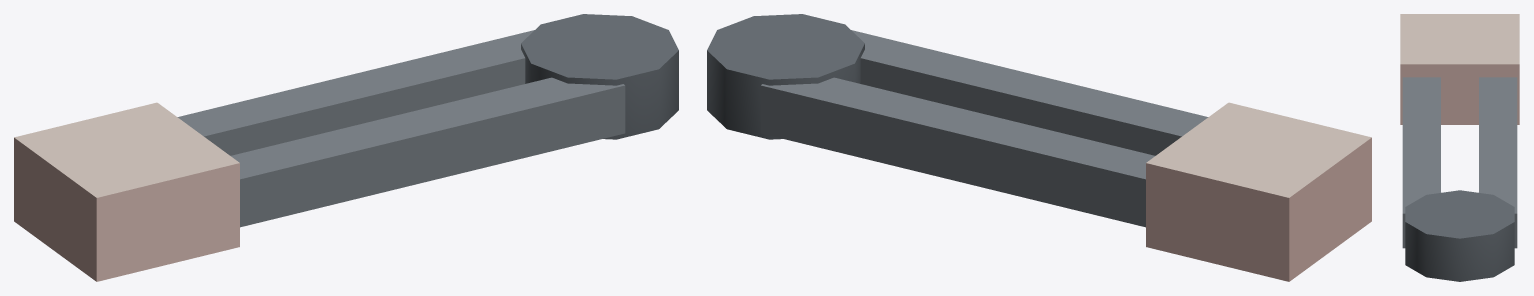
The model's file is t_shotgun_b.glb.
3 views of the same model, side by side, from view 1: azimuth 30°, elevation 25°; view 2: azimuth 150°, elevation 25°; view 3: azimuth 270°, elevation 25° (orthographic). The views are drawn at different scales.
Parts seen in each view (by area): view 1: t_shotgun_b; view 2: t_shotgun_b; view 3: t_shotgun_b.
Boxes of the visible parts, x1,y1,x2,y2 form: t_shotgun_b: (14, 14, 678, 281); t_shotgun_b: (707, 14, 1371, 281); t_shotgun_b: (1400, 14, 1519, 281).
Bounding box in the file's own units: 2.14 × 0.28 × 0.5.
